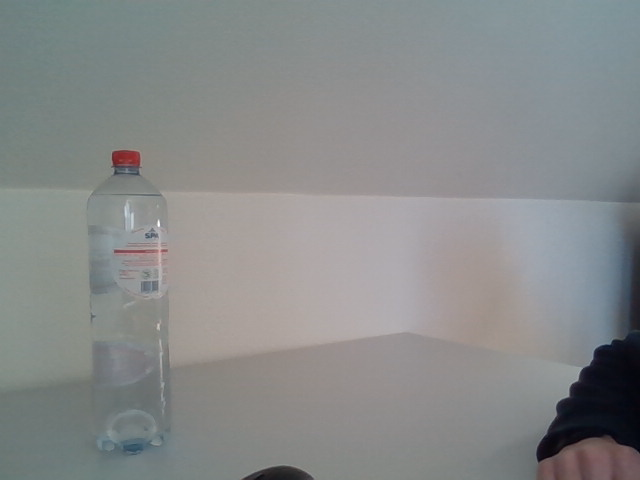bottle: (86, 150, 170, 456)
